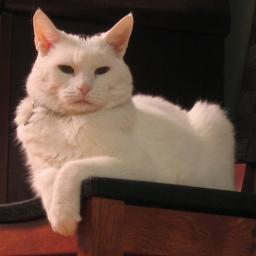catnose: (76, 84, 92, 96)
